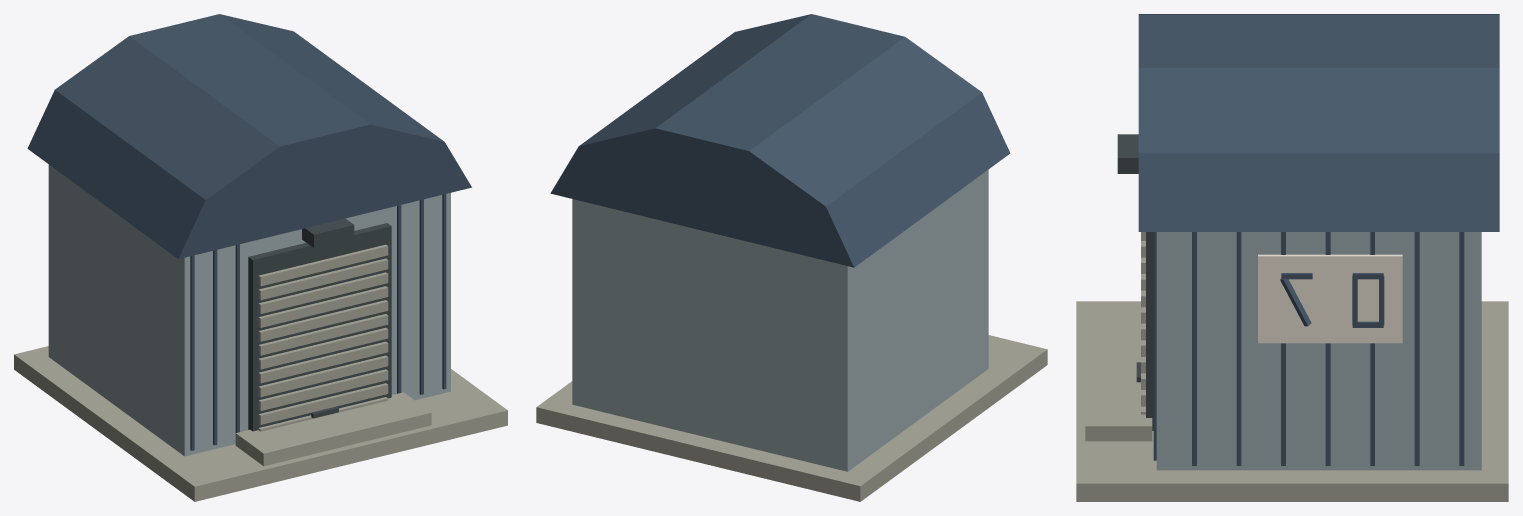
Rendered from warehouse.glb.
3 renders of one model, left to right at view 1: azimuth 30°, elevation 25°; view 2: azimuth 150°, elevation 25°; view 3: azimuth 270°, elevation 25°, orthographic. The views are drawn at different scales.
Parts seen in each view (by area): view 1: RoofBlue, Steel, Concrete, Metal; view 2: Steel, RoofBlue, Concrete; view 3: RoofBlue, Steel, Concrete, Sign, Metal.
Part boxes in pixels (box(x1,y1,x2,y2)): RoofBlue: box(27, 14, 471, 450); Steel: box(48, 164, 450, 456); Concrete: box(14, 244, 507, 501); Metal: box(248, 218, 391, 431); Steel: box(572, 169, 988, 471); RoofBlue: box(550, 14, 1010, 267); Concrete: box(536, 335, 1047, 501); RoofBlue: box(1138, 14, 1499, 465); Steel: box(1156, 232, 1481, 470); Concrete: box(1076, 232, 1508, 501); Sign: box(1258, 254, 1402, 343); Metal: box(1117, 134, 1153, 430).
Size of the model in its own units: 1.94 by 1.83 by 1.94.
